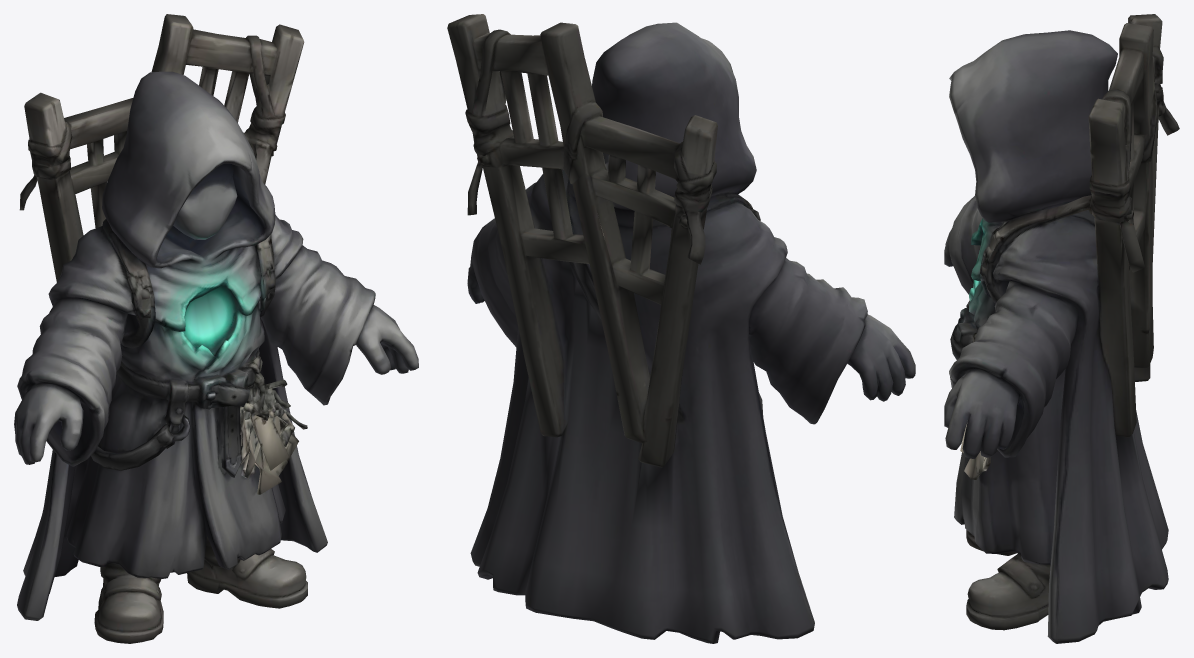
The model's file is retopo.glb.
The picture shows the model from 3 angles, left to right: view 1: azimuth 30°, elevation 25°; view 2: azimuth 150°, elevation 25°; view 3: azimuth 270°, elevation 25°; orthographic projection. The views are drawn at different scales.
Visible parts, largest first — view 1: tripo_node_8da722d7-6438-4d02-bc84-804dceede044; view 2: tripo_node_8da722d7-6438-4d02-bc84-804dceede044; view 3: tripo_node_8da722d7-6438-4d02-bc84-804dceede044.
Boxes of the visible parts, x1,y1,x2,y2 form: tripo_node_8da722d7-6438-4d02-bc84-804dceede044: [14, 14, 418, 643]; tripo_node_8da722d7-6438-4d02-bc84-804dceede044: [447, 14, 915, 643]; tripo_node_8da722d7-6438-4d02-bc84-804dceede044: [944, 14, 1179, 643].
Bounding box in the file's own units: 0.733 × 0.978 × 0.3655.
1 material, 1 textured.
